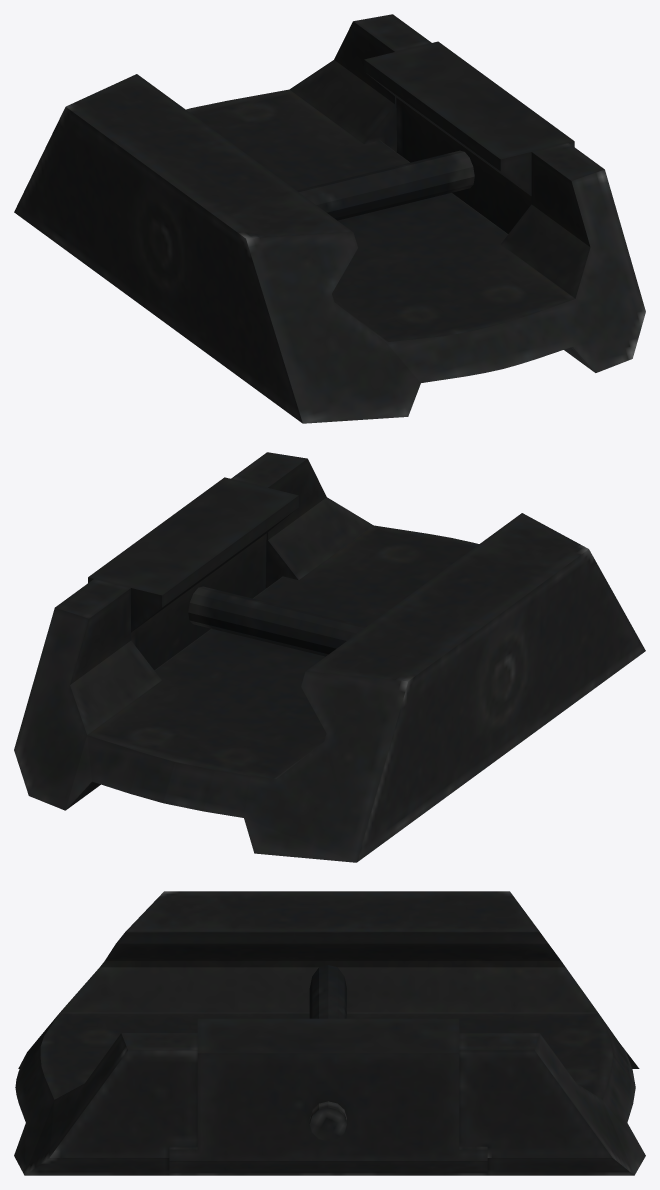
3 views of the same model, one above another, from view 1: azimuth 30°, elevation 25°; view 2: azimuth 150°, elevation 25°; view 3: azimuth 270°, elevation 25° (orthographic). The views are drawn at different scales.
Visible parts, largest first — view 1: TW_58d39d3d86f77445bb794ae7_PZ_Import; view 2: TW_58d39d3d86f77445bb794ae7_PZ_Import; view 3: TW_58d39d3d86f77445bb794ae7_PZ_Import.
Part boxes in pixels (bbox=[...]): TW_58d39d3d86f77445bb794ae7_PZ_Import: bbox=[14, 14, 645, 423]; TW_58d39d3d86f77445bb794ae7_PZ_Import: bbox=[14, 452, 645, 862]; TW_58d39d3d86f77445bb794ae7_PZ_Import: bbox=[14, 891, 645, 1175].
Bounding box in the file's own units: 0.0177 × 0.0282 × 0.00677.
1 material, 1 textured.
